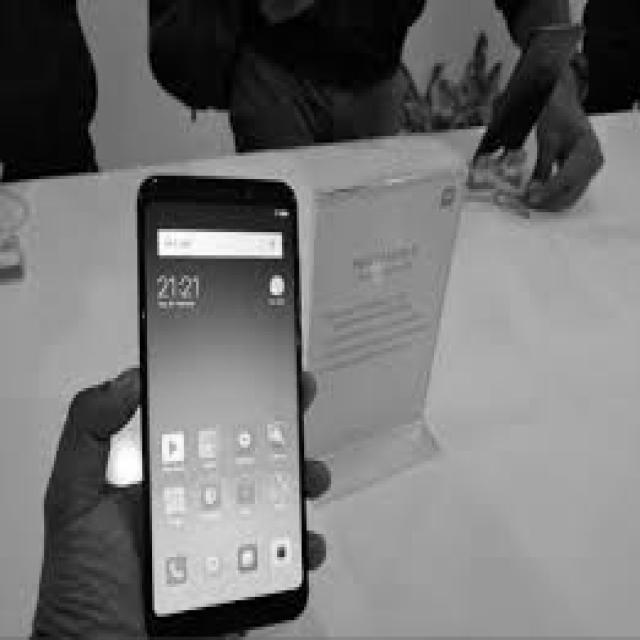No gun_phone: (140, 178, 312, 633)
